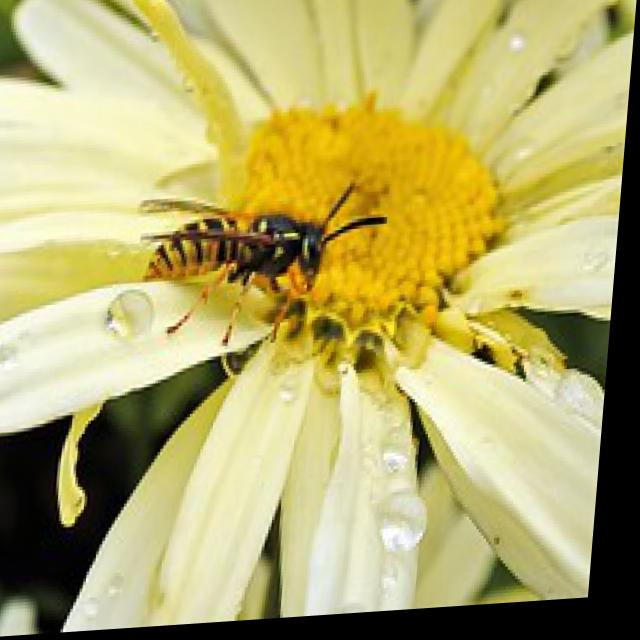Guepe: (113, 163, 402, 397)
